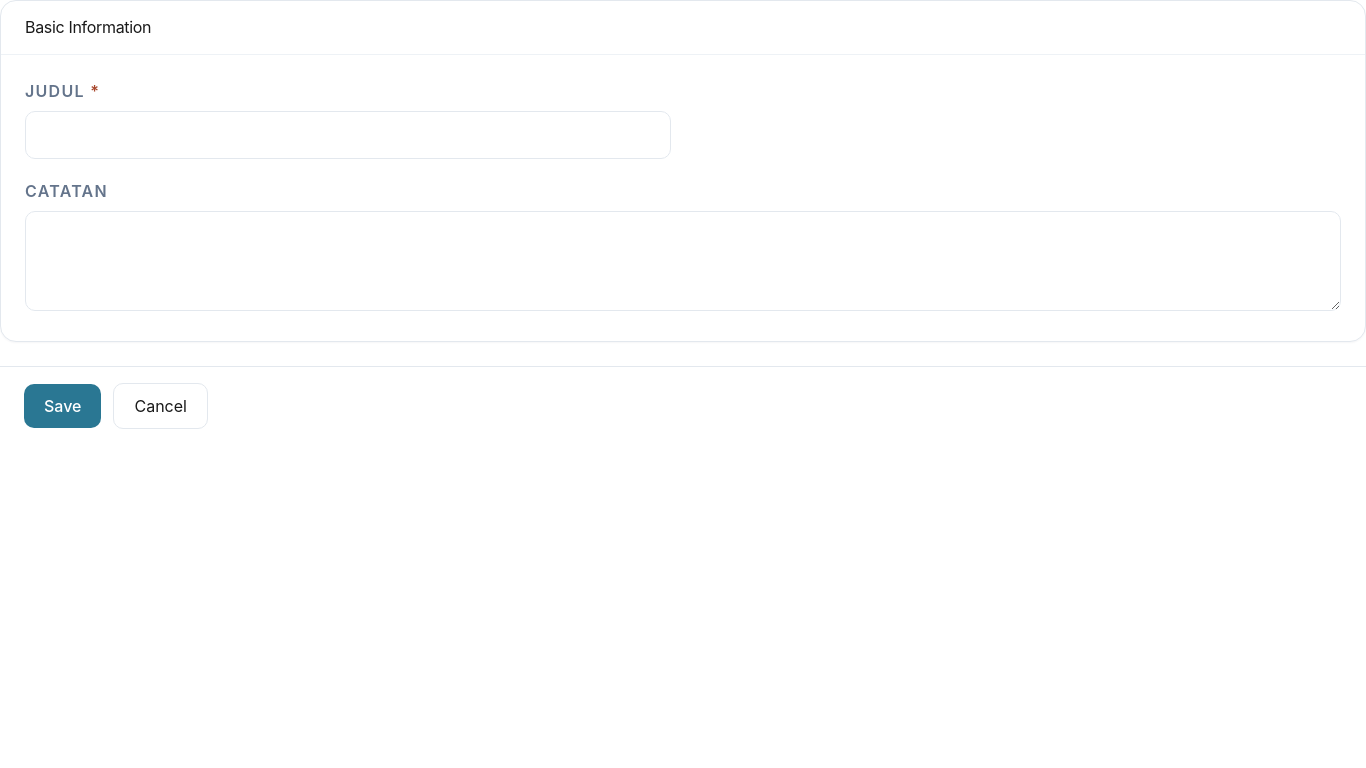
ResourceForm required-field validation › clicking the field in "Data Belum Lengkap" closes the modal and focuses that field
What coordinates should you click on to do the following:
click the button "Save"
I would click on:
 (63, 406)
Its box is [24, 384, 102, 428].
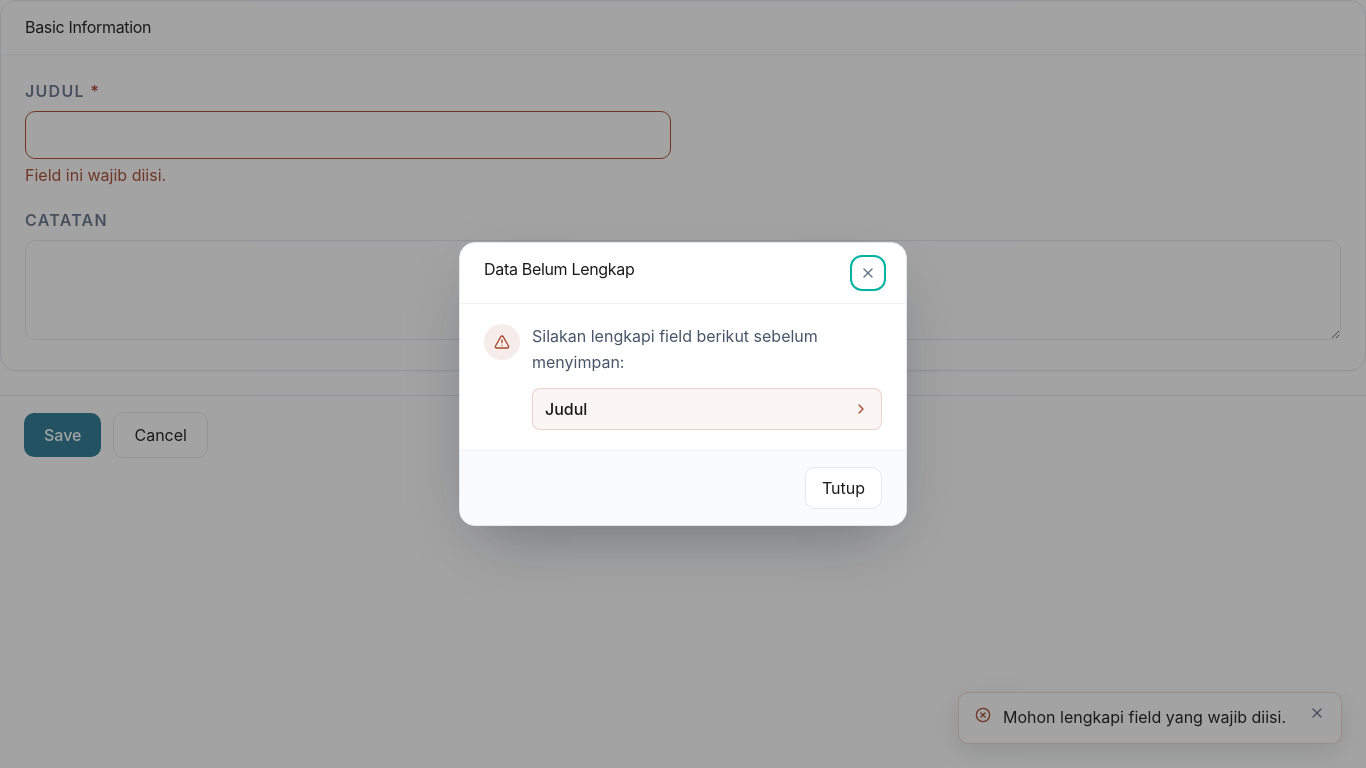
What coordinates should you click on to do the following:
click the button "Judul"
I would click on:
 (566, 409)
Its box is [532, 388, 882, 430].
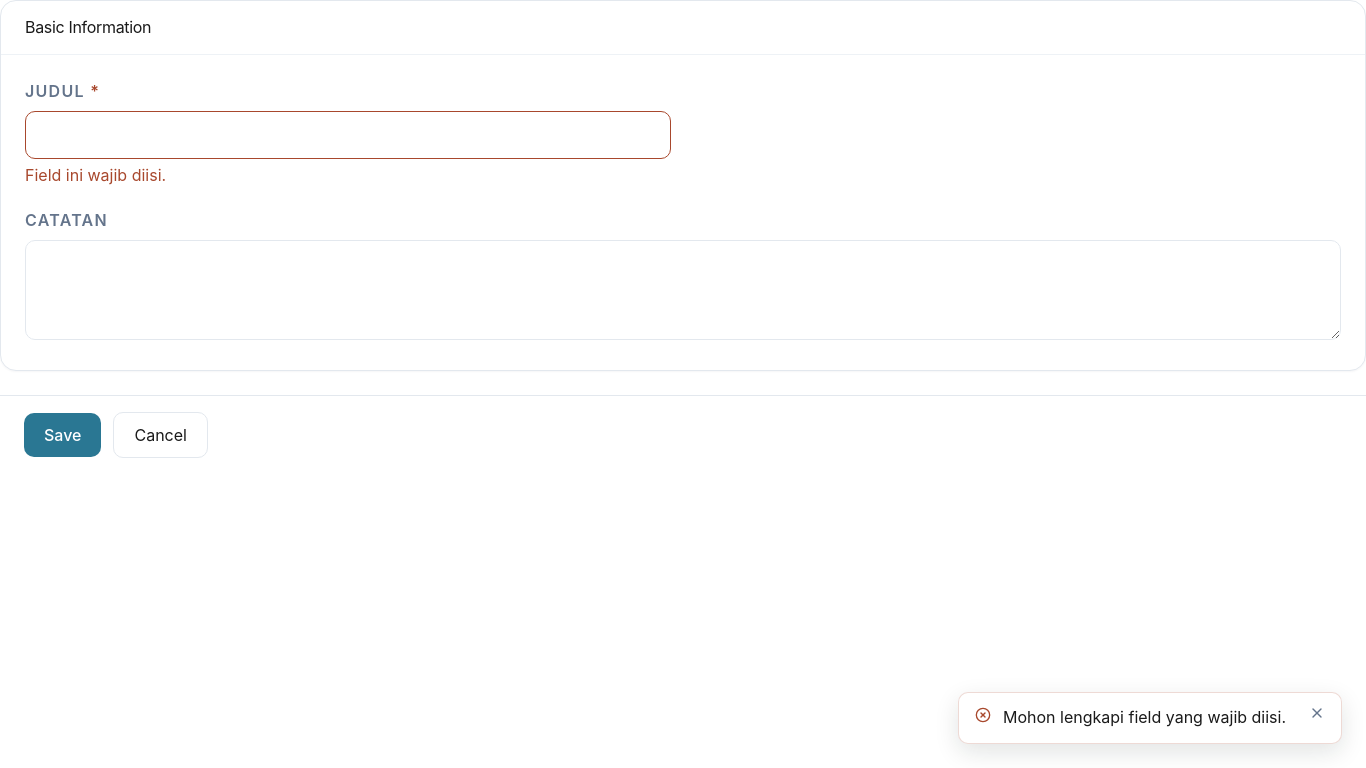
Expected: the heading "Data Belum Lengkap" is gone
